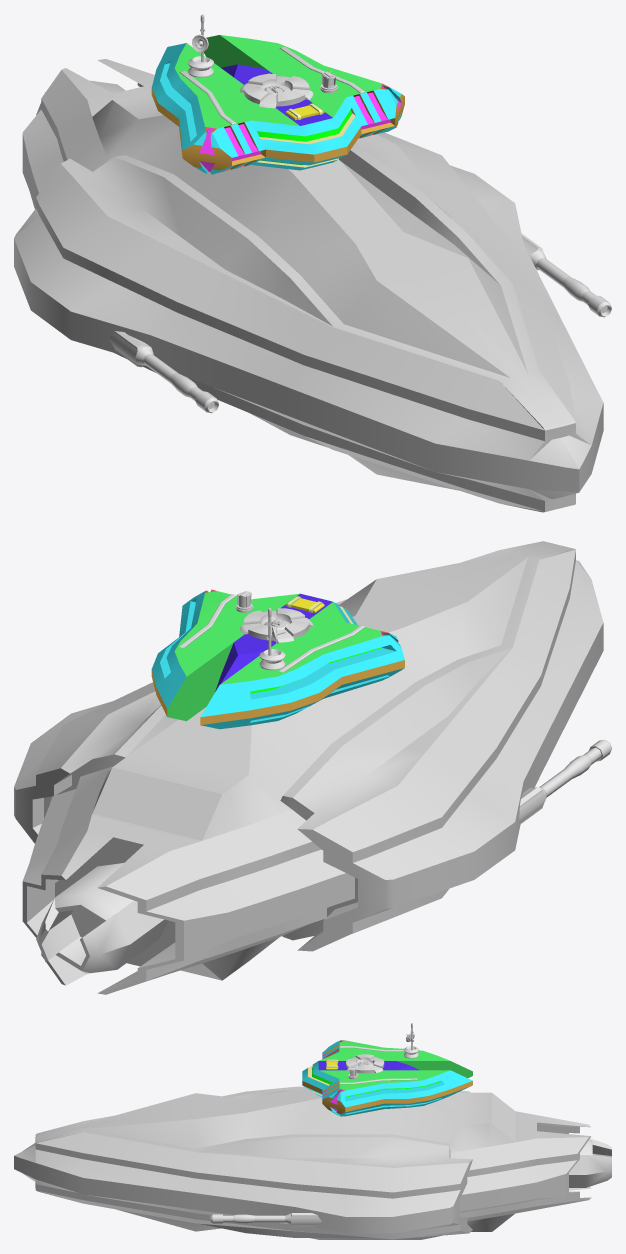
Rendered from PatrolShip01T.fbx.
3 renders of one model, top to bottom at view 1: azimuth 30°, elevation 25°; view 2: azimuth 150°, elevation 25°; view 3: azimuth 270°, elevation 25°, orthographic. The views are drawn at different scales.
Parts seen in each view (by area): view 1: Hull, Main Part, AutoCannon2, HatchLow, AutoCannon, Antena, Beam; view 2: Hull, Main Part, Engine, AutoCannon2, HatchLow, Beam, Antena; view 3: Hull, Main Part, Engine, AutoCannon, HatchLow, Beam.
Part boxes in pixels (x1=…): Hull: x1=14, y1=59, x2=603, y2=512; Main Part: x1=151, y1=35, x2=404, y2=174; AutoCannon2: x1=108, y1=331, x2=218, y2=413; HatchLow: x1=239, y1=73, x2=313, y2=108; AutoCannon: x1=521, y1=234, x2=611, y2=317; Antena: x1=188, y1=14, x2=213, y2=77; Beam: x1=179, y1=46, x2=364, y2=124; Hull: x1=14, y1=541, x2=603, y2=994; Main Part: x1=151, y1=589, x2=404, y2=729; Engine: x1=36, y1=863, x2=168, y2=973; AutoCannon2: x1=519, y1=739, x2=611, y2=824; HatchLow: x1=239, y1=608, x2=313, y2=642; Beam: x1=179, y1=594, x2=365, y2=672; Antena: x1=259, y1=608, x2=285, y2=670; Hull: x1=14, y1=1086, x2=591, y2=1239; Main Part: x1=302, y1=1040, x2=472, y2=1116; Engine: x1=569, y1=1138, x2=611, y2=1187; AutoCannon: x1=210, y1=1213, x2=321, y2=1226; HatchLow: x1=346, y1=1054, x2=384, y2=1073; Beam: x1=339, y1=1046, x2=417, y2=1084.
Size of the model in its own units: 218 by 162 by 439.
